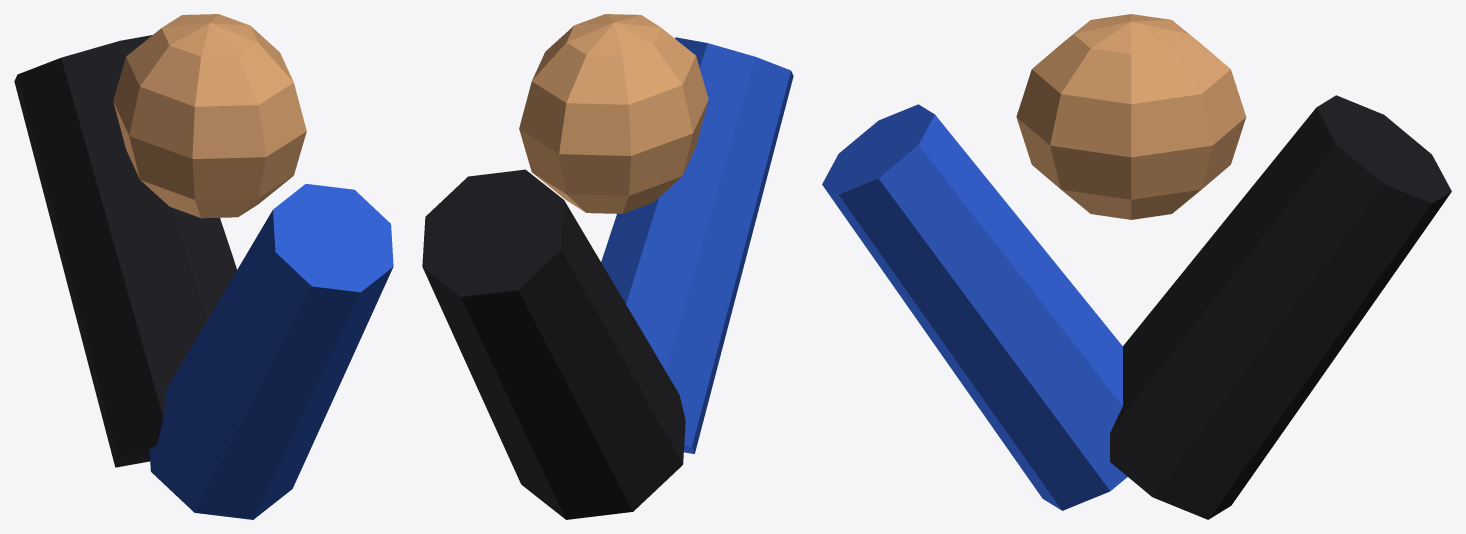
File: arm_lock.glb
3 renders of one model, left to right at view 1: azimuth 30°, elevation 25°; view 2: azimuth 150°, elevation 25°; view 3: azimuth 270°, elevation 25°, orthographic. The views are drawn at different scales.
Parts seen in each view (by area): view 1: arms_cop_sleeve, arms_biker_leather, hands_skin_arena; view 2: arms_biker_leather, arms_cop_sleeve, hands_skin_arena; view 3: arms_biker_leather, arms_cop_sleeve, hands_skin_arena.
Part boxes in pixels (<box>): arms_cop_sleeve: <box>149,184,393,519</box>; arms_biker_leather: <box>14,35,236,467</box>; hands_skin_arena: <box>113,14,306,218</box>; arms_biker_leather: <box>422,169,685,519</box>; arms_cop_sleeve: <box>601,37,793,453</box>; hands_skin_arena: <box>519,14,708,213</box>; arms_biker_leather: <box>1110,95,1451,519</box>; arms_cop_sleeve: <box>822,104,1127,510</box>; hands_skin_arena: <box>1016,14,1246,219</box>.
Size of the model in its own units: 0.14 by 0.3903 by 0.4602.
